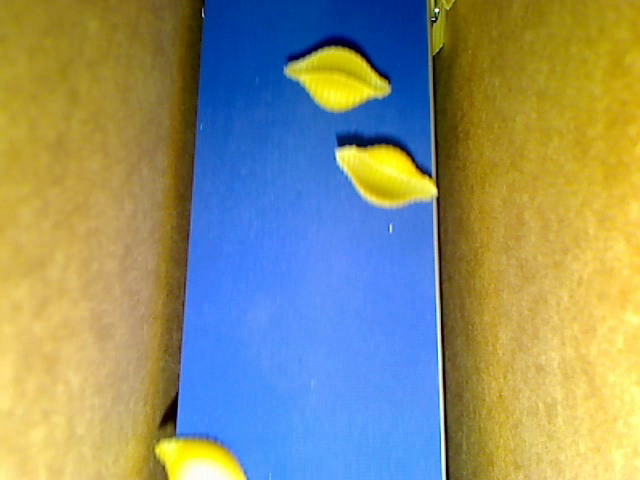penne: (430, 1, 446, 61), (439, 1, 459, 12)
shell: (278, 43, 391, 116), (332, 141, 438, 211), (154, 438, 250, 479)
